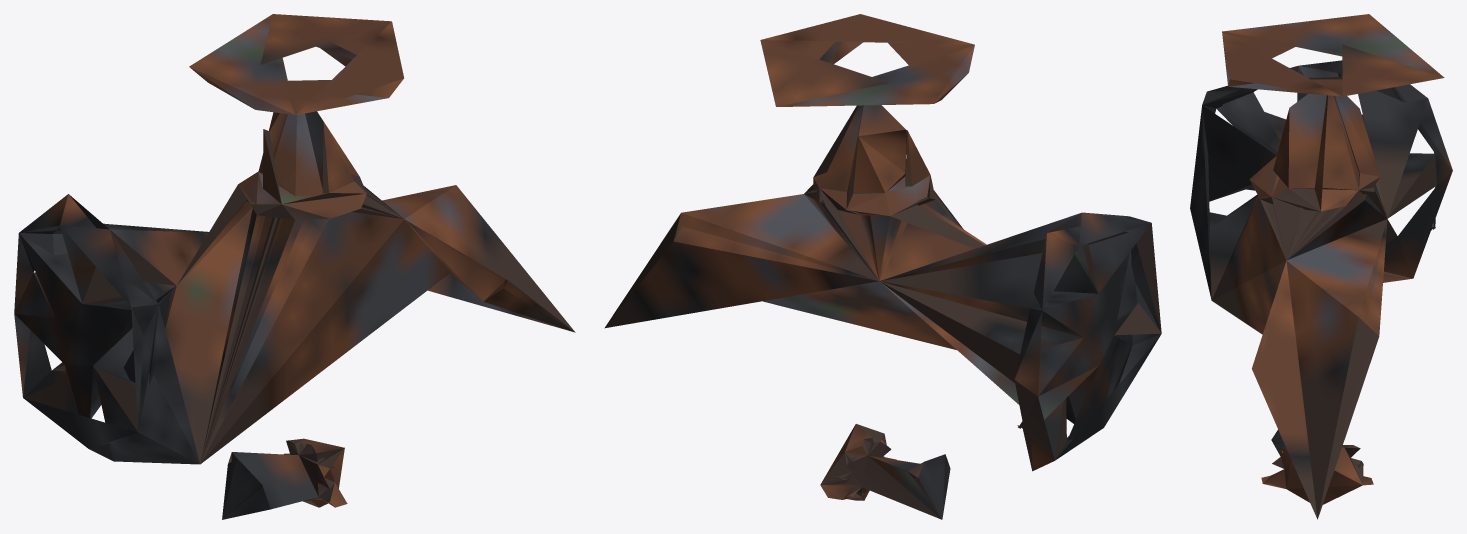
The model's file is SM_MeshySewerValve.fbx.
3 views of the same model, side by side, from view 1: azimuth 30°, elevation 25°; view 2: azimuth 150°, elevation 25°; view 3: azimuth 270°, elevation 25° (orthographic).
Parts seen in each view (by area): view 1: SM_MeshySewerValve; view 2: SM_MeshySewerValve; view 3: SM_MeshySewerValve.
Part boxes in pixels (box(x1,y1,x2,y2)): SM_MeshySewerValve: box(14, 14, 575, 519); SM_MeshySewerValve: box(604, 14, 1161, 519); SM_MeshySewerValve: box(1190, 14, 1452, 519).
Size of the model in its own units: 0.959 by 0.8253 by 0.4351.
1 material, 1 textured.
